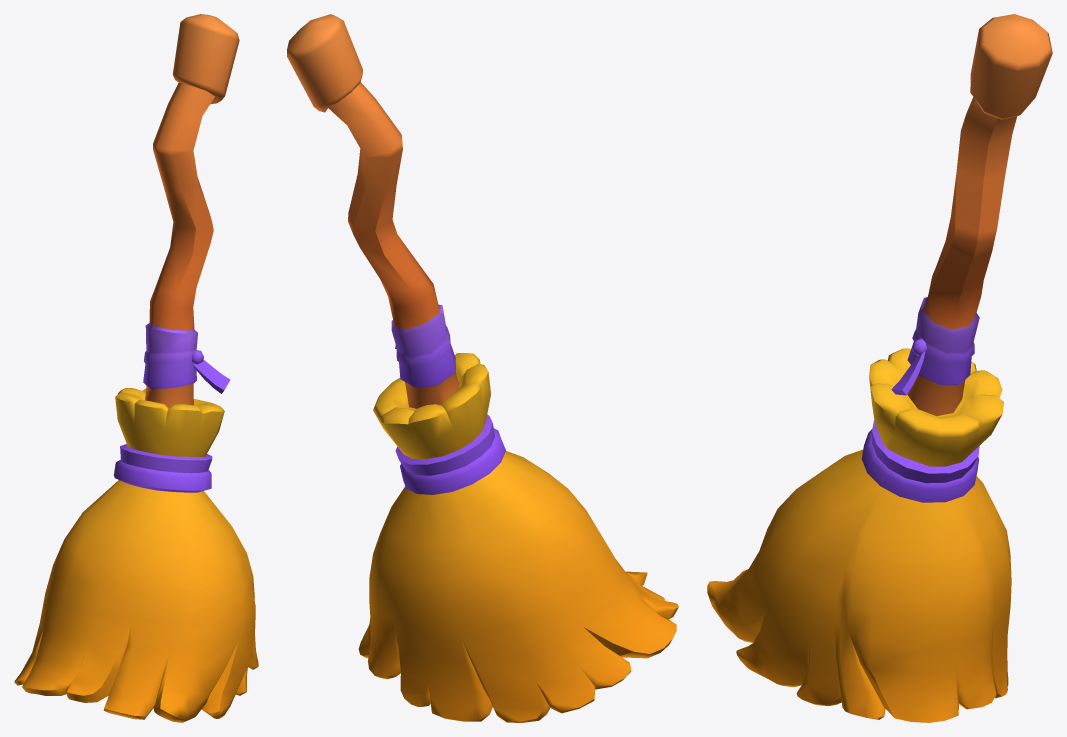
The model's file is WBA_Witch_Broom_Set_02.fbx.
3 views of the same model, side by side, from view 1: azimuth 30°, elevation 25°; view 2: azimuth 150°, elevation 25°; view 3: azimuth 270°, elevation 25° (orthographic). The views are drawn at different scales.
Parts seen in each view (by area): view 1: WBA_Witch_Broom_Set_02; view 2: WBA_Witch_Broom_Set_02; view 3: WBA_Witch_Broom_Set_02.
Boxes of the visible parts, x1=… form: WBA_Witch_Broom_Set_02: x1=14, y1=14, x2=258, y2=722; WBA_Witch_Broom_Set_02: x1=287, y1=14, x2=678, y2=722; WBA_Witch_Broom_Set_02: x1=707, y1=14, x2=1052, y2=722.
Bounding box in the file's own units: 42.49 × 90.07 × 38.75.
